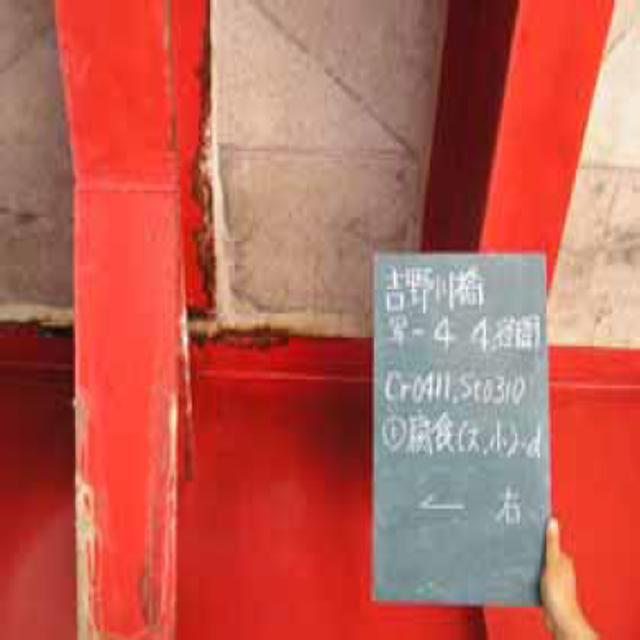corrosion: (188, 50, 278, 363)
